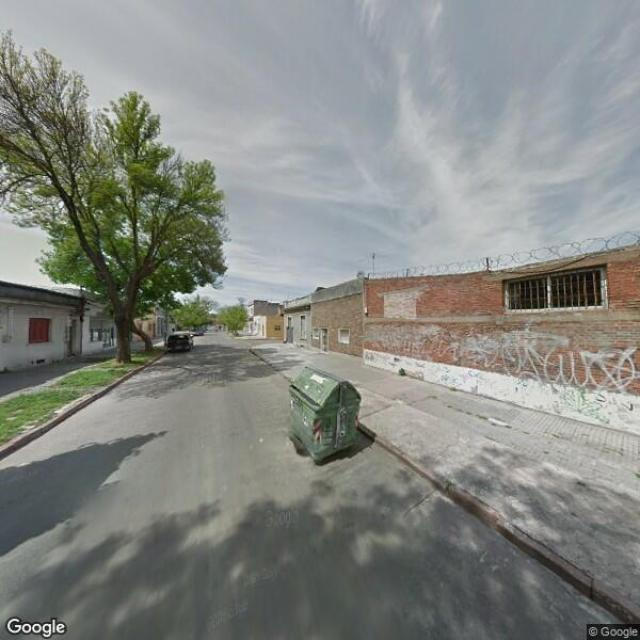garbage container: (284, 358, 374, 470)
